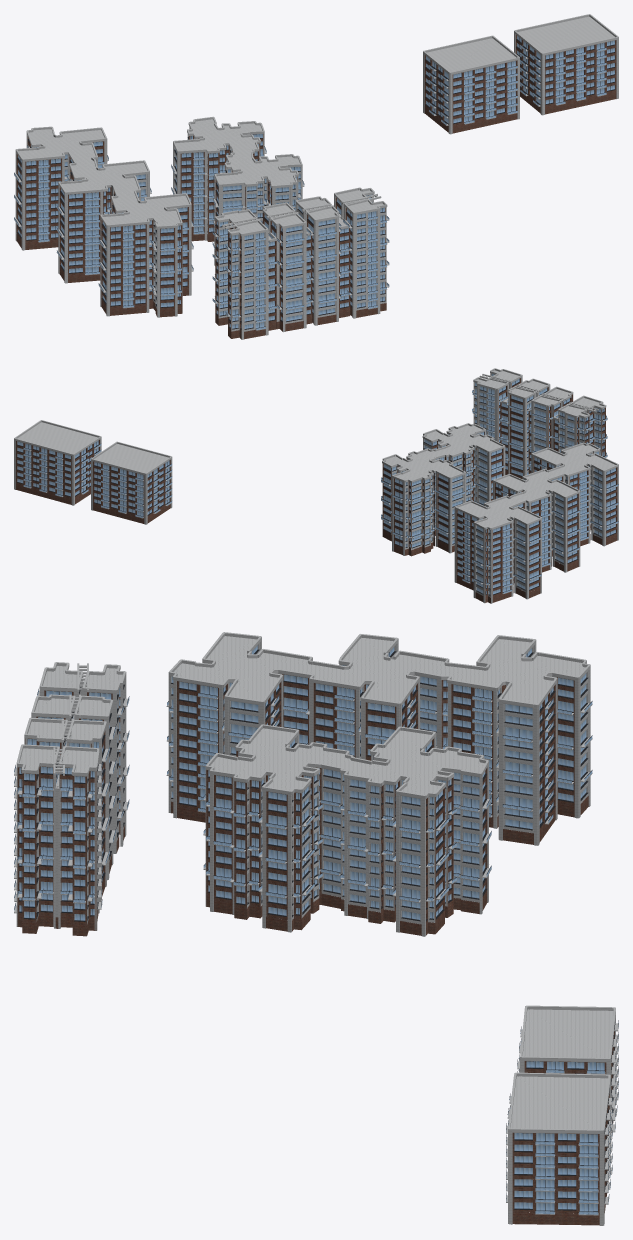
File: torres_vecinas.glb
The picture shows the model from 3 angles, top to bottom: view 1: azimuth 30°, elevation 25°; view 2: azimuth 150°, elevation 25°; view 3: azimuth 270°, elevation 25°; orthographic projection. The views are drawn at different scales.
Parts seen in each view (by area): view 1: Torres_Vecinas_PBR; view 2: Torres_Vecinas_PBR; view 3: Torres_Vecinas_PBR.
Part boxes in pixels (x1,y1,x2,y2): Torres_Vecinas_PBR: (14, 14, 618, 339); Torres_Vecinas_PBR: (14, 368, 618, 603); Torres_Vecinas_PBR: (14, 632, 618, 1225).
Bounding box in the file's own units: 260 × 43.67 × 144.
4 materials, 4 textured.
